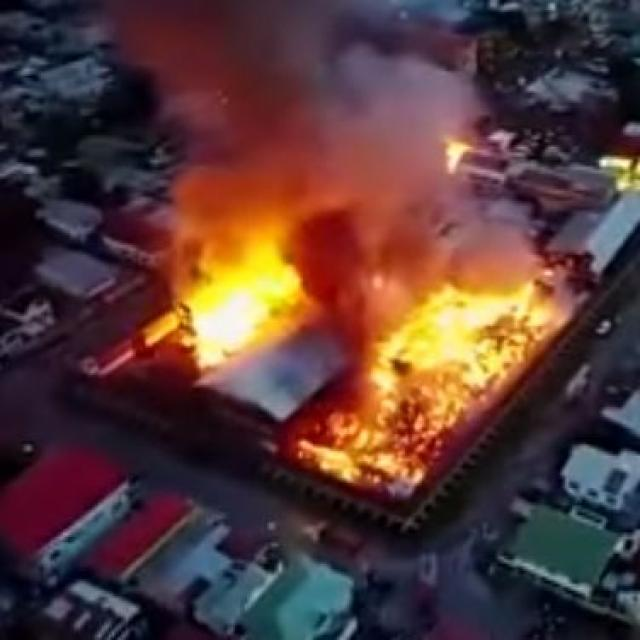Fire: (155, 149, 554, 499)
Smoke: (69, 0, 534, 327)
